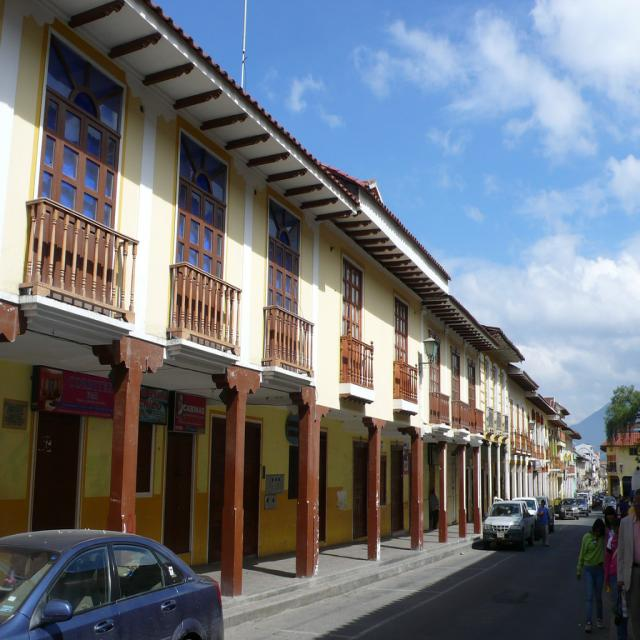car: (481, 499, 528, 550)
